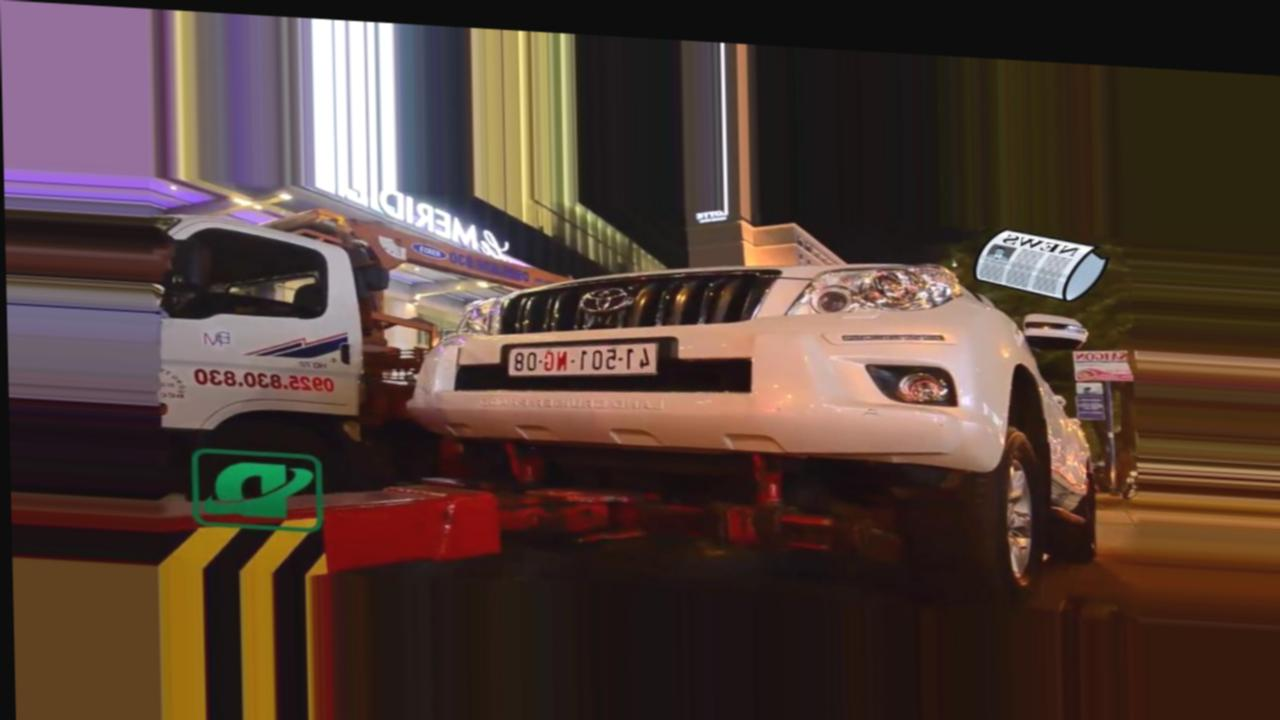License_Plate: (500, 336, 655, 393)
